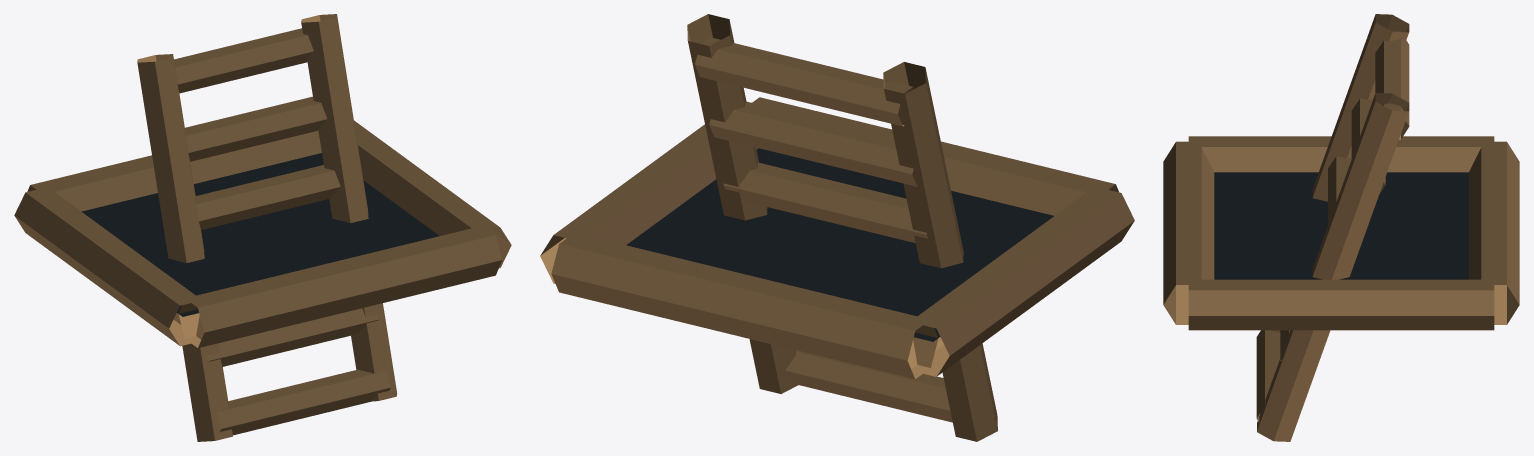
3 renders of one model, left to right at view 1: azimuth 30°, elevation 25°; view 2: azimuth 150°, elevation 25°; view 3: azimuth 270°, elevation 25°, orthographic. The views are drawn at different scales.
Parts seen in each view (by area): view 1: 6db37fd43f6a725d17da7c9ba7ae50053fbafb3184c3f1f6d9eb3de35b08; view 2: 6db37fd43f6a725d17da7c9ba7ae50053fbafb3184c3f1f6d9eb3de35b08; view 3: 6db37fd43f6a725d17da7c9ba7ae50053fbafb3184c3f1f6d9eb3de35b08.
Boxes of the visible parts, box(x1,y1,x2,y2) form: 6db37fd43f6a725d17da7c9ba7ae50053fbafb3184c3f1f6d9eb3de35b08: box(14, 14, 511, 441); 6db37fd43f6a725d17da7c9ba7ae50053fbafb3184c3f1f6d9eb3de35b08: box(540, 14, 1134, 441); 6db37fd43f6a725d17da7c9ba7ae50053fbafb3184c3f1f6d9eb3de35b08: box(1163, 14, 1519, 441).
Bounding box in the file's own units: 2.3 × 2.21 × 2.1.
Materials: 2 (1 with a texture image).
